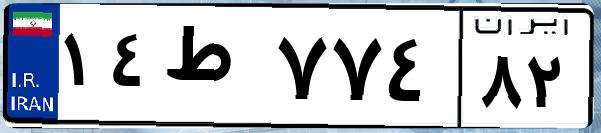1: (57, 26, 110, 100)
2: (525, 38, 570, 115)
4: (385, 28, 445, 110), (110, 28, 158, 98)
7: (270, 28, 330, 110), (330, 28, 385, 110)
8: (475, 38, 525, 113)
ط: (158, 20, 270, 120)
